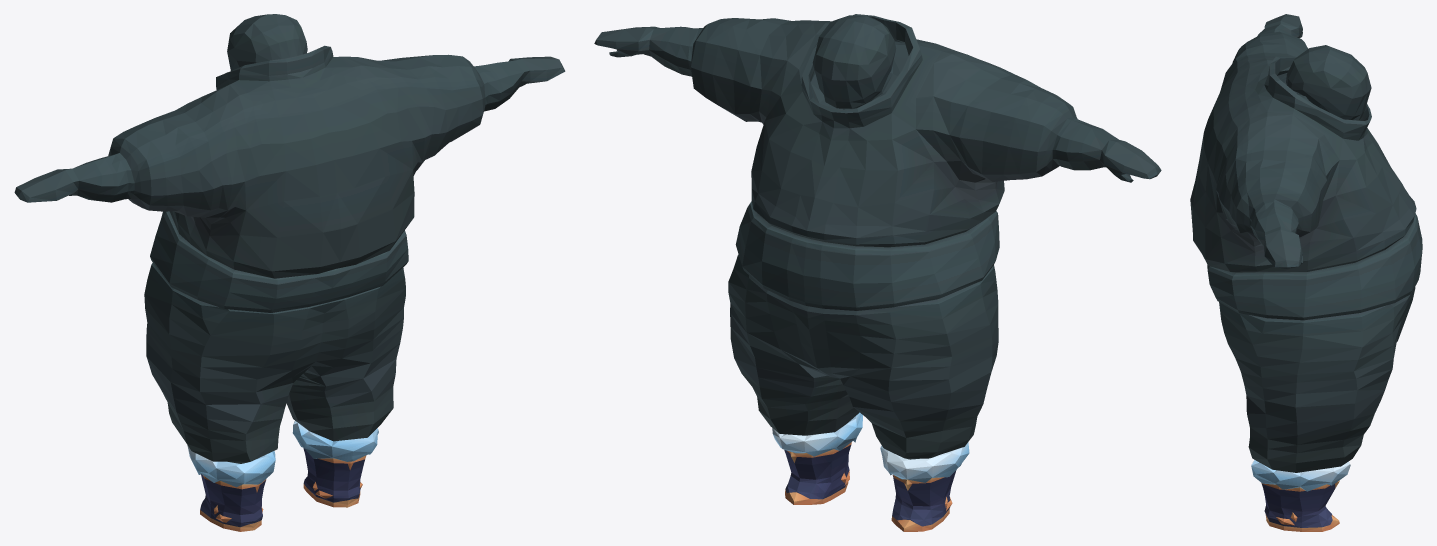
The model's file is CharSkyNPC_Body_MerchantRig.glb.
3 renders of one model, left to right at view 1: azimuth 30°, elevation 25°; view 2: azimuth 150°, elevation 25°; view 3: azimuth 270°, elevation 25°, orthographic. The views are drawn at different scales.
Visible parts, largest first — view 1: CharSkyNPC_Body_MerchantRig; view 2: CharSkyNPC_Body_MerchantRig; view 3: CharSkyNPC_Body_MerchantRig.
Boxes of the visible parts, x1,y1,x2,y2 form: CharSkyNPC_Body_MerchantRig: (14,14,565,531); CharSkyNPC_Body_MerchantRig: (594,14,1161,531); CharSkyNPC_Body_MerchantRig: (1190,14,1422,531).
Size of the model in its own units: 17.89 by 15.07 by 7.06.
1 material, 1 textured.
